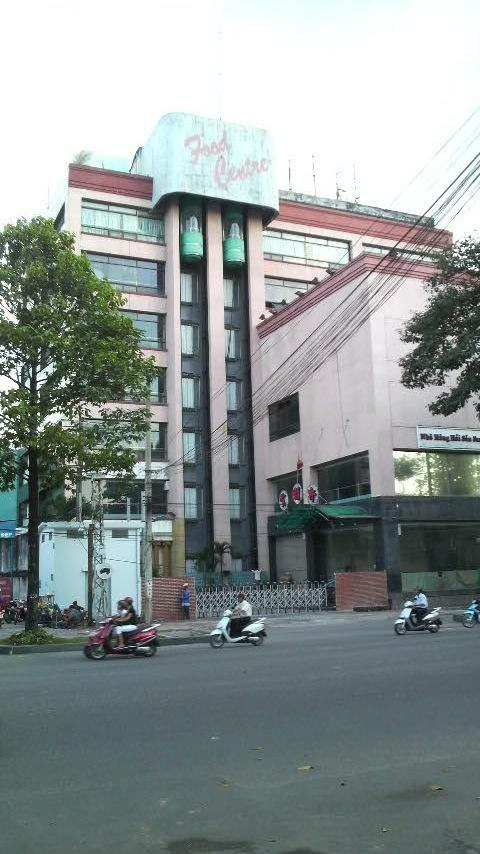non-vehicle: (84, 614, 161, 660), (208, 608, 267, 648), (393, 598, 443, 635), (462, 598, 479, 629)
